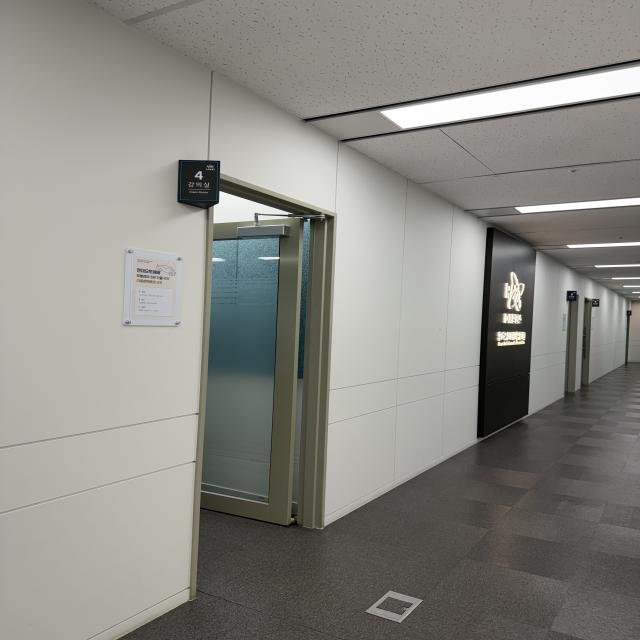room4: (179, 160, 219, 203)
